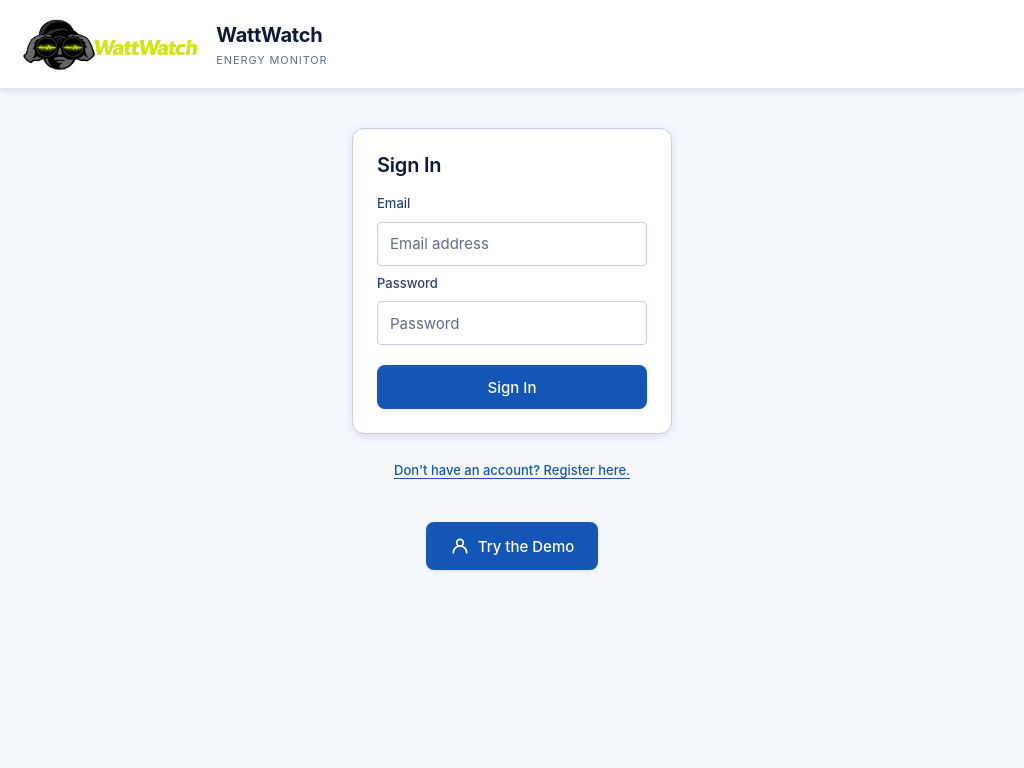
Test: Login / Register toggle on Home › toggles back to Sign In from Create Account
Click the button "Don't have an account? Register here.". click: point(512, 470)
box: top-left (394, 450), bottom-right (630, 490)
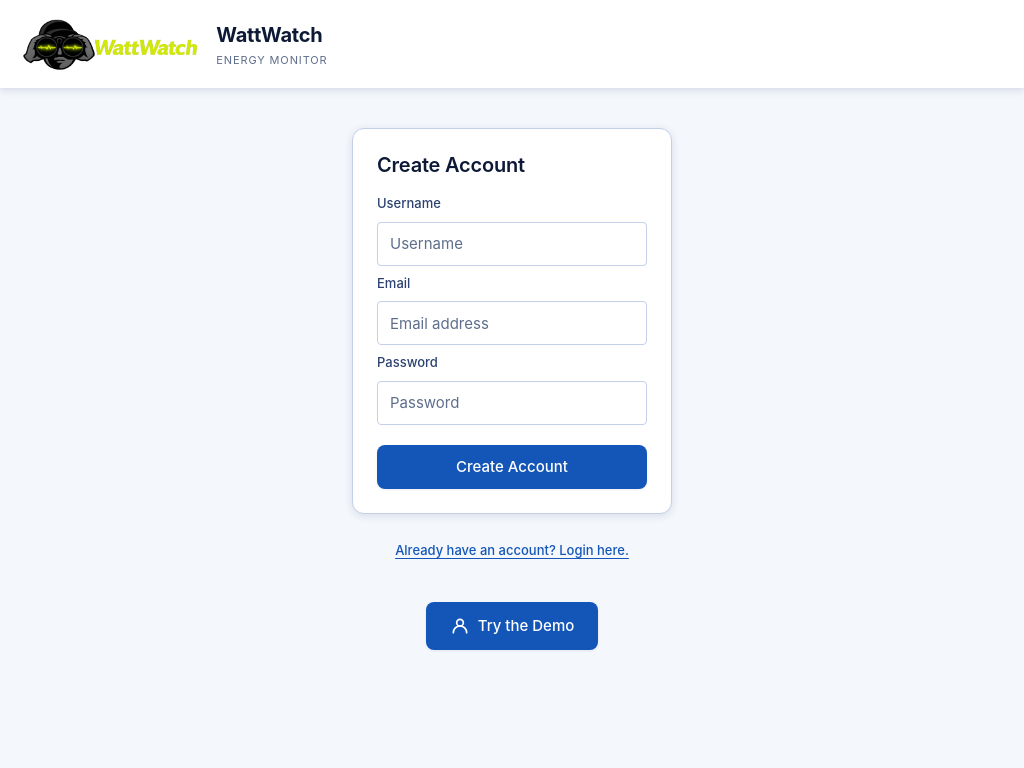
Click the button "Already have an account? Login here.". click: point(512, 550)
box: top-left (395, 530), bottom-right (629, 570)
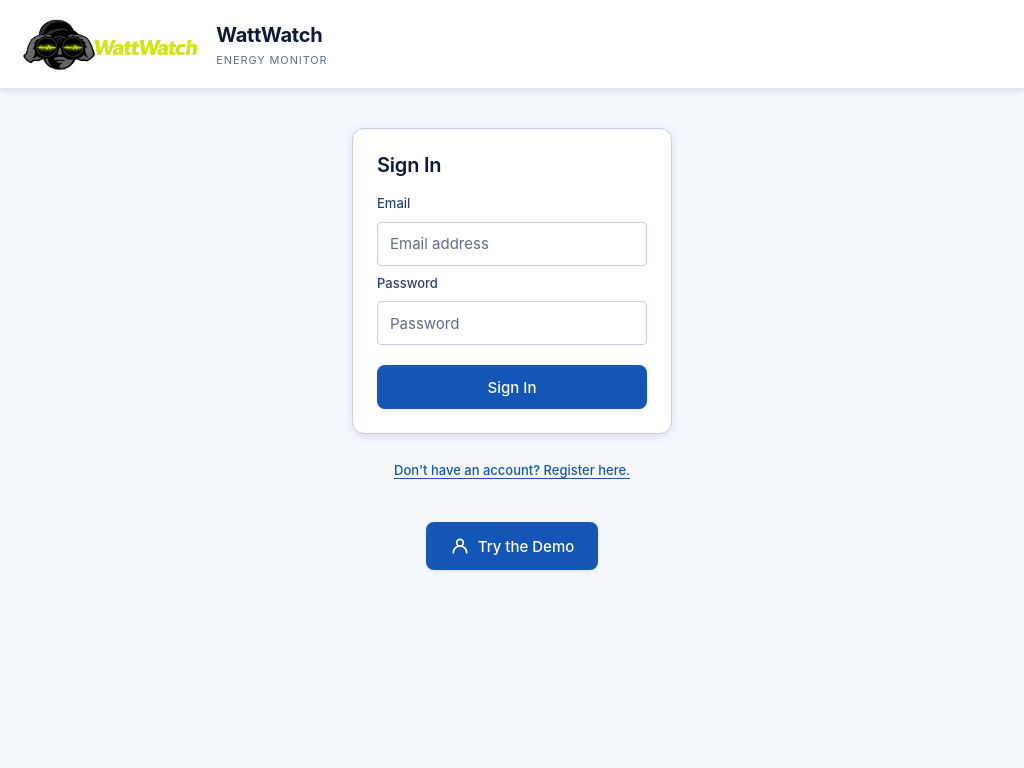
Expected: the heading "Sign In" is shown, top-left (377, 153), bottom-right (441, 178)
